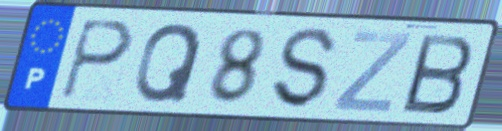8: (207, 26, 270, 106)
B: (399, 31, 477, 117)
P: (57, 16, 136, 103)
Q: (131, 20, 207, 106)
S: (270, 26, 340, 113)
Z: (330, 29, 415, 115)
